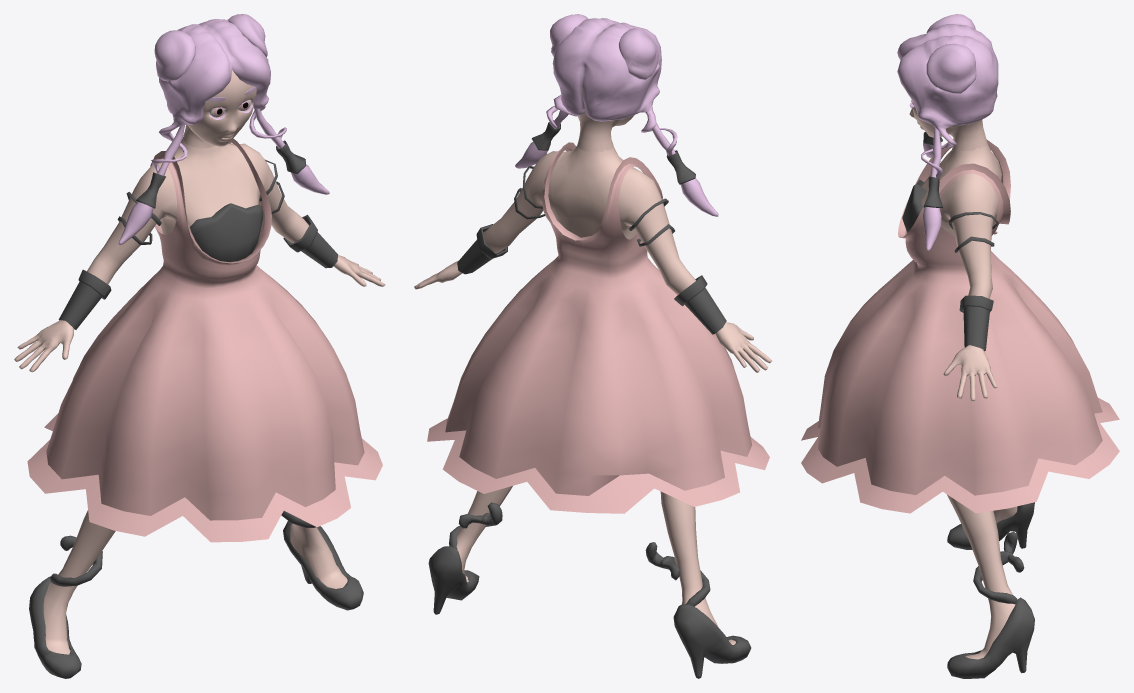
File: venachia opti.fbx
The picture shows the model from 3 angles, left to right: view 1: azimuth 30°, elevation 25°; view 2: azimuth 150°, elevation 25°; view 3: azimuth 270°, elevation 25°; orthographic projection. The views are drawn at different scales.
Visible parts, largest first — view 1: Robe, Corp, Base_Cheveux1, Chaussure, Bracelet, Plastron, Tête_Retopo, Chignon, Couette, Anneau_Couette; view 2: Robe, Corp, Base_Cheveux1, Chaussure, Bracelet, Chignon, Couette, Tête_Retopo, Anneau_Couette; view 3: Robe, Corp, Base_Cheveux1, Chaussure, Chignon, Bracelet, Tête_Retopo, Couette, Plastron, Anneau_Couette.
Boxes of the visible parts, x1,y1,x2,y2 form: Robe: [27, 138, 382, 542]; Corp: [14, 137, 385, 654]; Base_Cheveux1: [151, 19, 286, 172]; Chaussure: [29, 511, 363, 678]; Bracelet: [58, 159, 337, 329]; Plastron: [190, 203, 263, 261]; Tête_Retopo: [183, 70, 256, 148]; Chignon: [154, 14, 267, 81]; Couette: [118, 108, 329, 245]; Anneau_Couette: [136, 140, 306, 208]; Robe: [427, 142, 769, 513]; Corp: [414, 145, 771, 644]; Base_Cheveux1: [546, 18, 677, 156]; Chaussure: [428, 502, 751, 678]; Bracelet: [457, 166, 726, 334]; Chignon: [550, 14, 658, 79]; Couette: [515, 110, 718, 216]; Tête_Retopo: [577, 87, 634, 152]; Anneau_Couette: [531, 120, 695, 184]; Robe: [801, 139, 1119, 513]; Corp: [921, 143, 1017, 659]; Base_Cheveux1: [897, 24, 998, 178]; Chaussure: [947, 502, 1034, 678]; Chignon: [926, 14, 976, 93]; Bracelet: [949, 212, 998, 351]; Tête_Retopo: [909, 107, 987, 150]; Couette: [923, 126, 941, 251]; Plastron: [902, 179, 926, 232]; Anneau_Couette: [923, 131, 942, 208].
Bounding box in the file's own units: 80.33 × 132 × 65.48.
